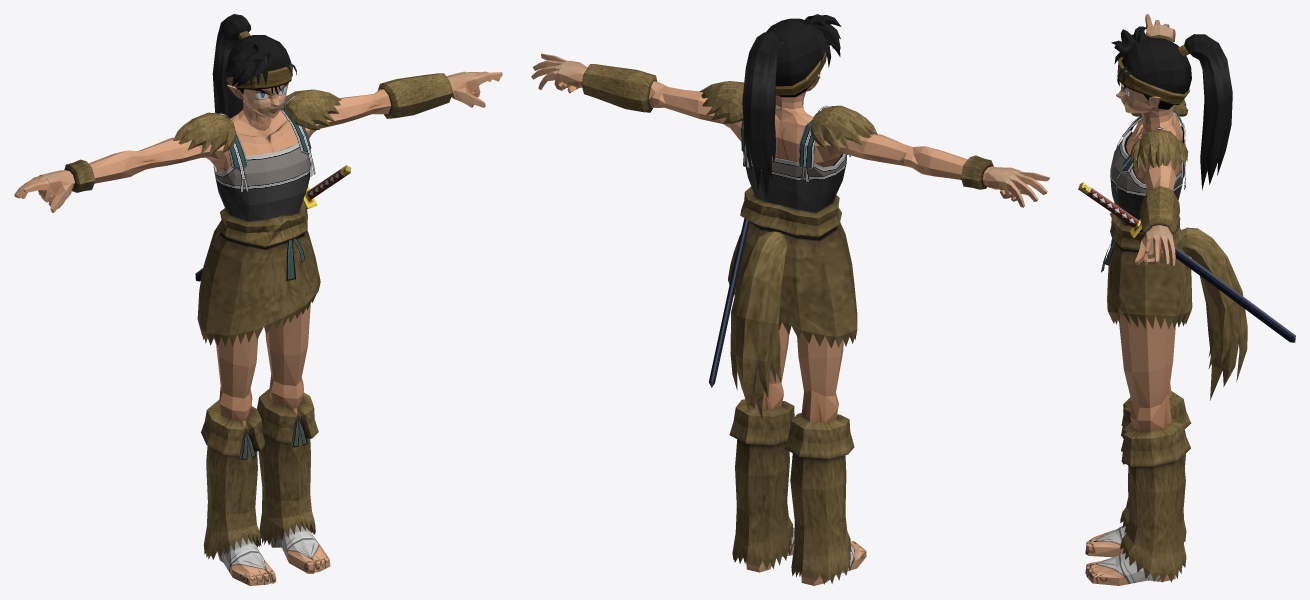
Rendered from Koga.obj.
3 renders of one model, left to right at view 1: azimuth 30°, elevation 25°; view 2: azimuth 150°, elevation 25°; view 3: azimuth 270°, elevation 25°, orthographic. The views are drawn at different scales.
Size of the model in its own units: 754 by 779 by 290.
Materials: 5 (5 with a texture image).
